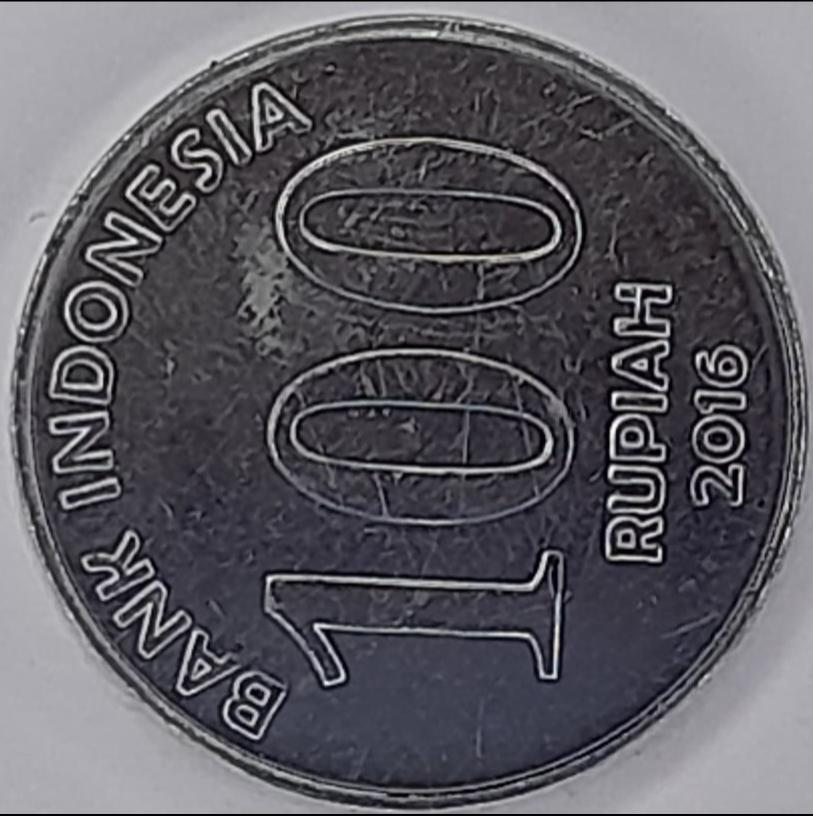coin_100_e2016: (4, 8, 812, 812)
